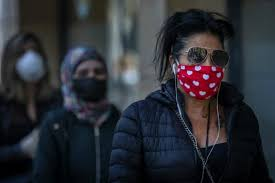mask: (173, 30, 223, 98), (71, 54, 109, 103), (15, 37, 45, 82)
